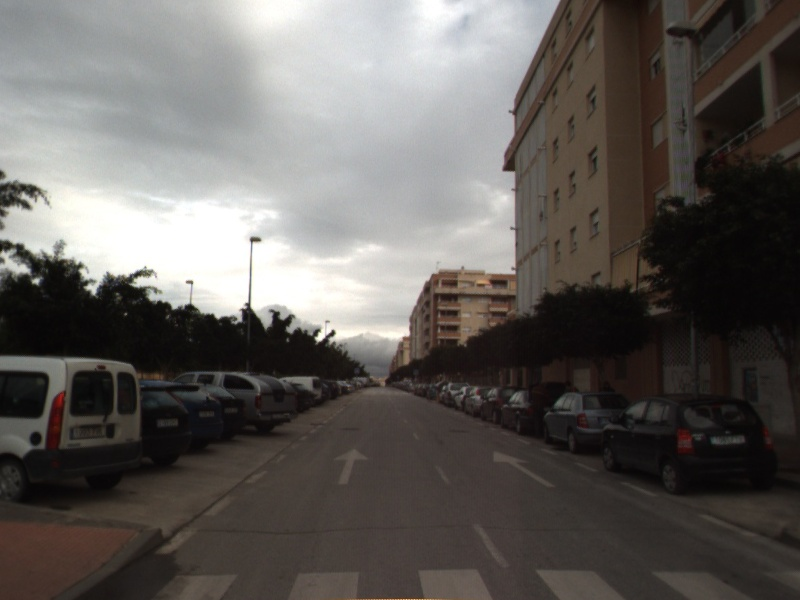STRAIGHT: (491, 448, 557, 489), (331, 446, 371, 486)
